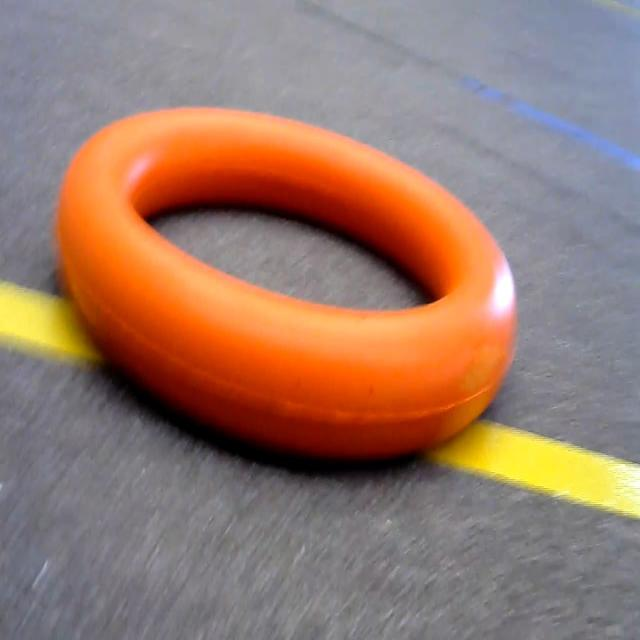note: (52, 80, 533, 467)
